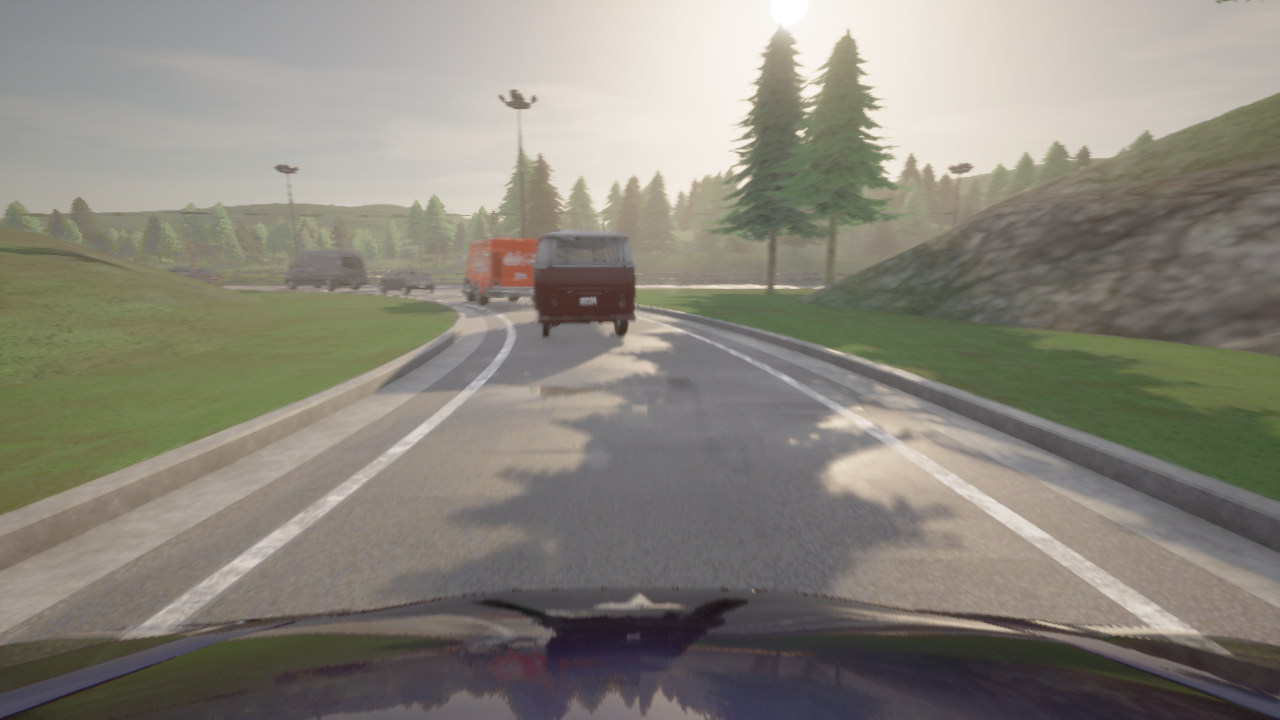cyclist: (0, 588, 1279, 719), (529, 231, 635, 337), (457, 238, 538, 305), (284, 249, 367, 290), (379, 268, 434, 295), (167, 267, 223, 286)
